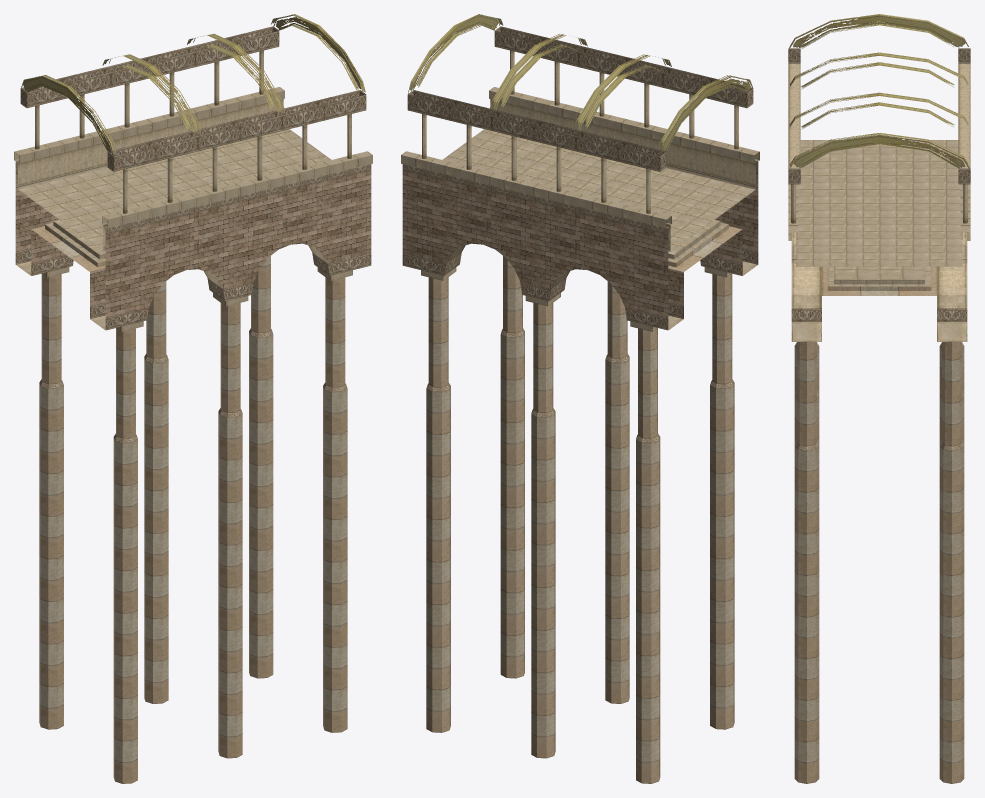
The model's file is thm_nboo_imprv_enclosed_walkway_s01_l0.fbx.
3 renders of one model, left to right at view 1: azimuth 30°, elevation 25°; view 2: azimuth 150°, elevation 25°; view 3: azimuth 270°, elevation 25°, orthographic. The views are drawn at different scales.
Parts seen in each view (by area): view 1: mesh_node; view 2: mesh_node; view 3: mesh_node.
Boxes of the visible parts, left/top/right/bottom form: mesh_node: left=14, top=14, right=372, bottom=783; mesh_node: left=401, top=14, right=759, bottom=783; mesh_node: left=788, top=14, right=970, bottom=783.
Bounding box in the file's own units: 8.88 × 21.4 × 5.39.
